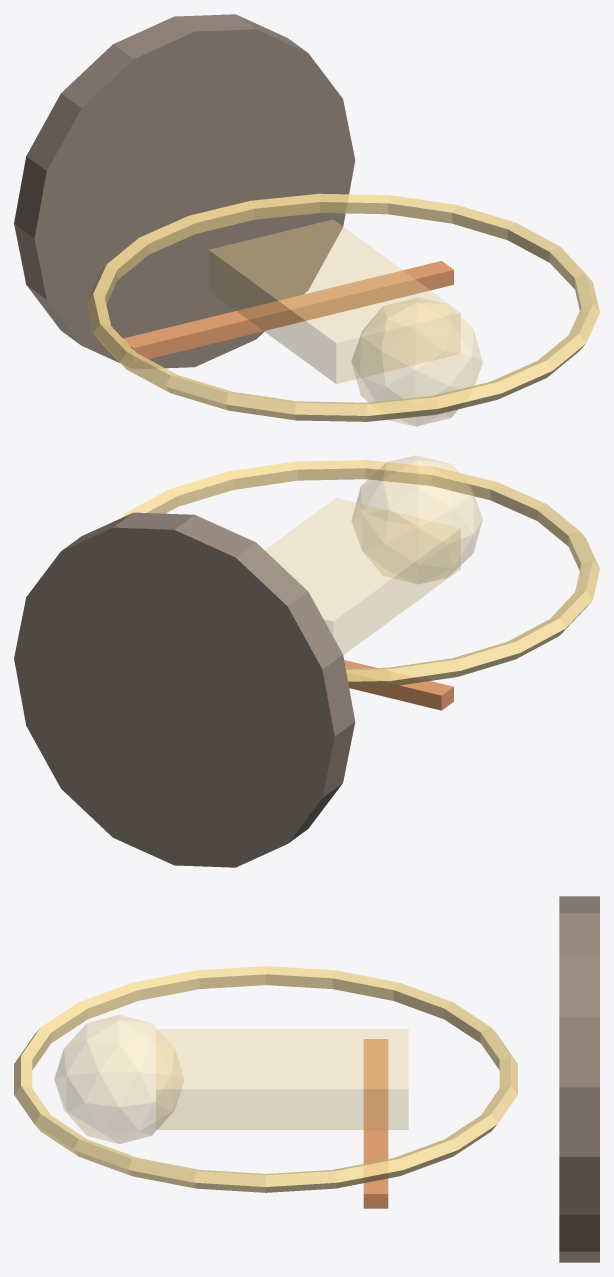
The model's file is 07_support_npc_aura.glb.
3 renders of one model, top to bottom at view 1: azimuth 30°, elevation 25°; view 2: azimuth 150°, elevation 25°; view 3: azimuth 270°, elevation 25°, orthographic.
Parts seen in each view (by area): view 1: npc_support_base, support_holo_body, ally_command_ring, support_holo_head, assist_beam_marker; view 2: npc_support_base, support_holo_body, ally_command_ring, support_holo_head, assist_beam_marker; view 3: support_holo_body, ally_command_ring, npc_support_base, support_holo_head, assist_beam_marker.
Boxes of the visible parts, box(x1,y1,x2,y2) form: npc_support_base: box(14, 14, 355, 368); support_holo_body: box(209, 219, 460, 383); ally_command_ring: box(86, 193, 599, 421); support_holo_head: box(351, 297, 482, 426); assist_beam_marker: box(121, 261, 453, 362); npc_support_base: box(14, 512, 355, 867); support_holo_body: box(265, 498, 460, 654); ally_command_ring: box(121, 460, 599, 687); support_holo_head: box(352, 455, 482, 583); assist_beam_marker: box(344, 660, 453, 710); support_holo_body: box(156, 1029, 408, 1129); ally_command_ring: box(14, 966, 517, 1192); npc_support_base: box(559, 896, 599, 1262); support_holo_head: box(54, 1015, 183, 1143); assist_beam_marker: box(363, 1039, 388, 1208).
Bounding box in the file's own units: 1.25 × 0.9 × 1.44.
